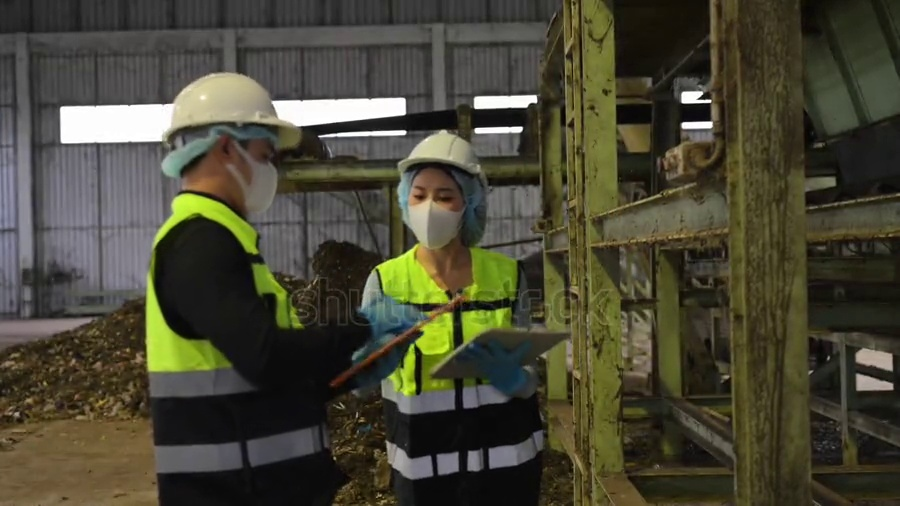helmet: (163, 71, 301, 152), (398, 129, 484, 178)
mask: (228, 161, 278, 223), (406, 200, 467, 250)
person: (144, 71, 419, 506), (356, 129, 545, 506)
